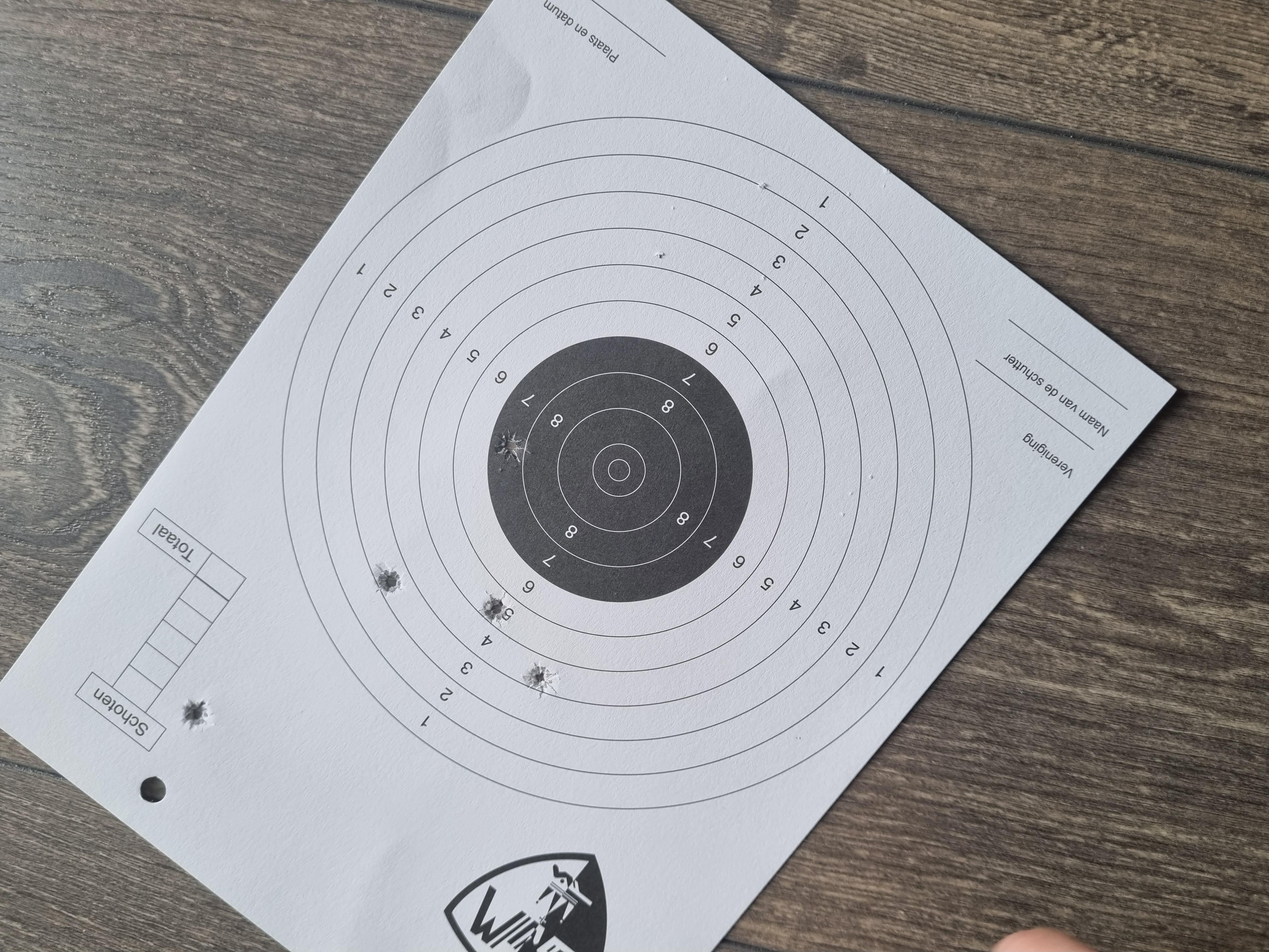hole: (651, 372, 695, 398), (337, 395, 386, 418), (435, 361, 481, 381), (477, 281, 517, 301), (296, 136, 336, 155)
